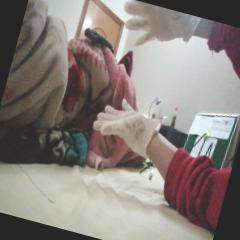gloved: (114, 0, 201, 61), (88, 92, 164, 160)
